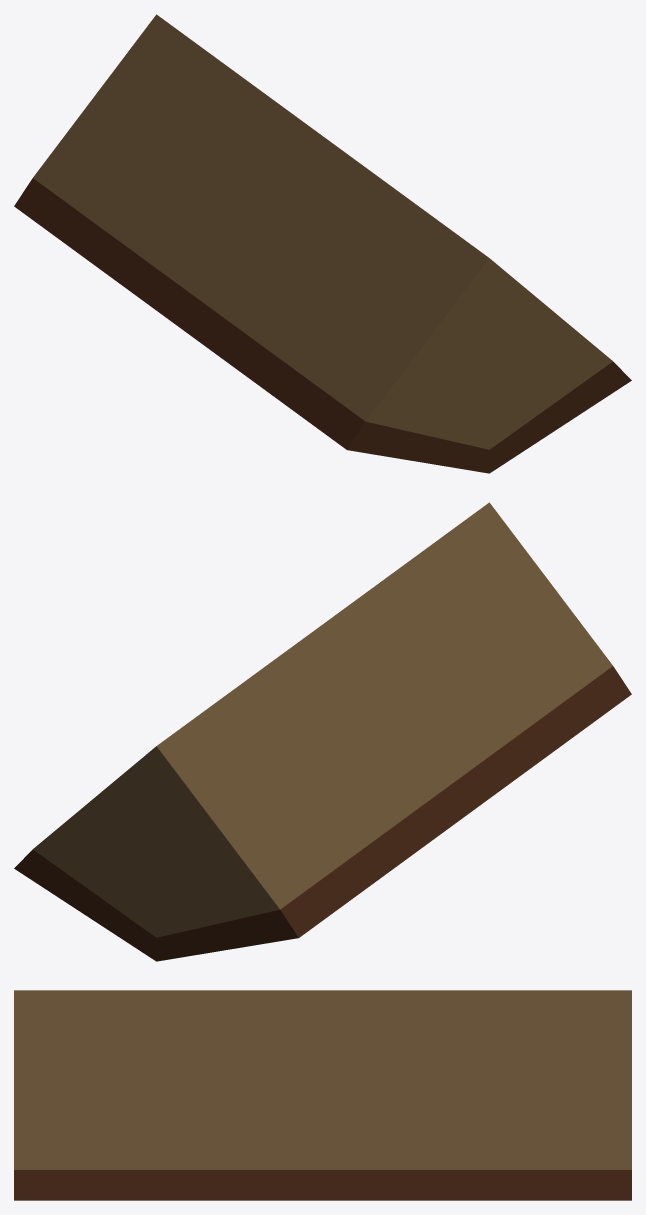
Rendered from LogModelTemp.fbx.
The picture shows the model from 3 angles, top to bottom: view 1: azimuth 30°, elevation 25°; view 2: azimuth 150°, elevation 25°; view 3: azimuth 270°, elevation 25°; orthographic projection. The views are drawn at different scales.
Parts seen in each view (by area): view 1: LogSlice; view 2: LogSlice; view 3: LogSlice.
Boxes of the visible parts, x1=… form: LogSlice: x1=14, y1=14, x2=631, y2=473; LogSlice: x1=14, y1=502, x2=631, y2=961; LogSlice: x1=14, y1=990, x2=631, y2=1200.
Bounding box in the file's own units: 44.38 × 32.08 × 89.83.
